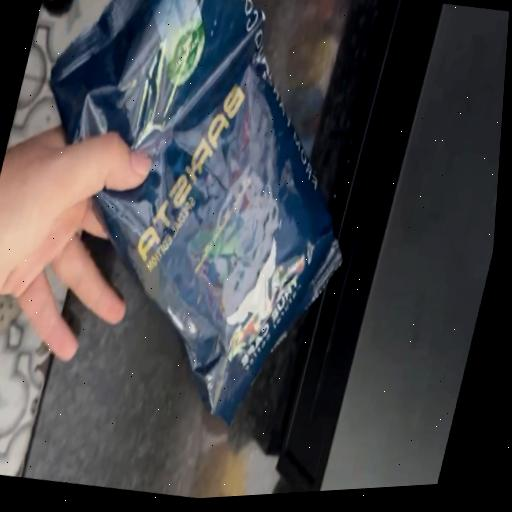cafe_hat: (50, 0, 339, 422)
